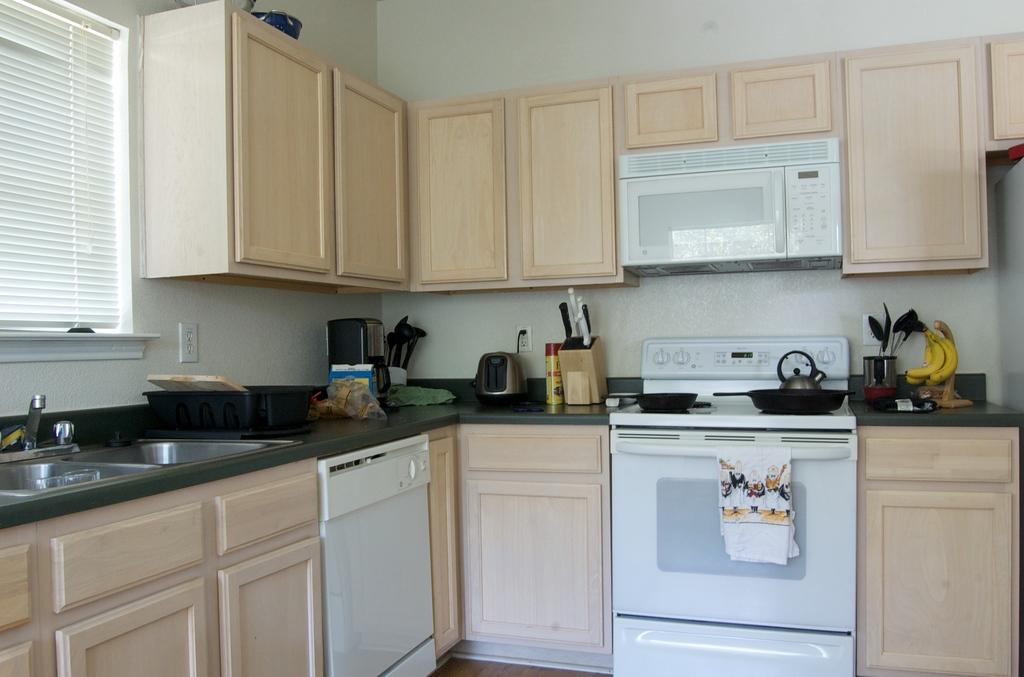cabinet_door: (842, 55, 976, 250), (870, 487, 1002, 677), (236, 25, 328, 268), (474, 486, 596, 650), (410, 113, 508, 278), (518, 102, 610, 270), (338, 85, 406, 274), (223, 575, 324, 677), (73, 615, 196, 677), (727, 72, 829, 128), (630, 82, 720, 142), (989, 40, 1024, 126)
handle: (774, 180, 784, 246)
